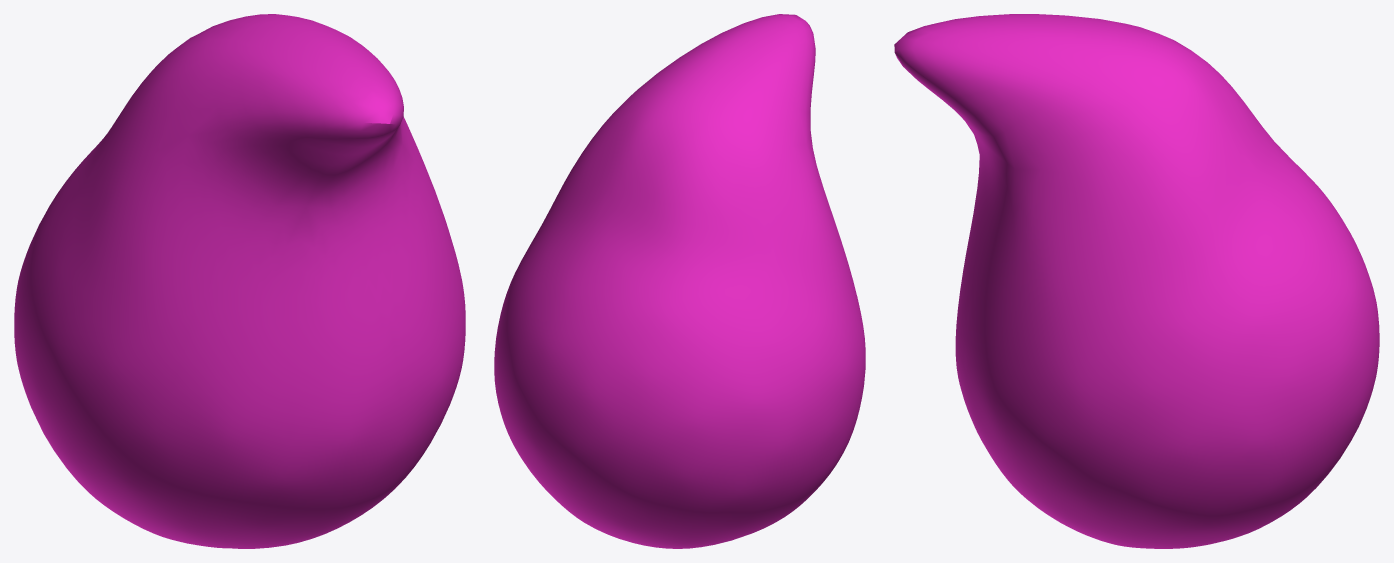
The model's file is poison.fbx.
The picture shows the model from 3 angles, left to right: view 1: azimuth 30°, elevation 25°; view 2: azimuth 150°, elevation 25°; view 3: azimuth 270°, elevation 25°; orthographic projection. The views are drawn at different scales.
Visible parts, largest first — view 1: Icosphere; view 2: Icosphere; view 3: Icosphere.
Boxes of the visible parts, x1,y1,x2,y2 form: Icosphere: (14, 14, 465, 548); Icosphere: (494, 14, 865, 548); Icosphere: (894, 14, 1379, 548).
Size of the model in its own units: 58.65 by 77.05 by 67.05.
